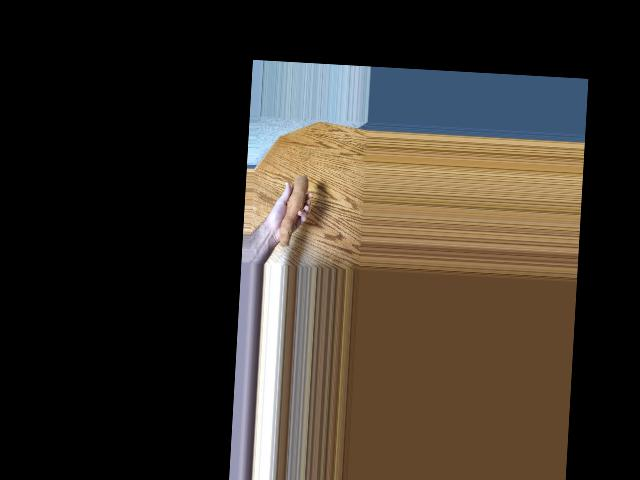sweet_potato: (278, 172, 309, 246)
